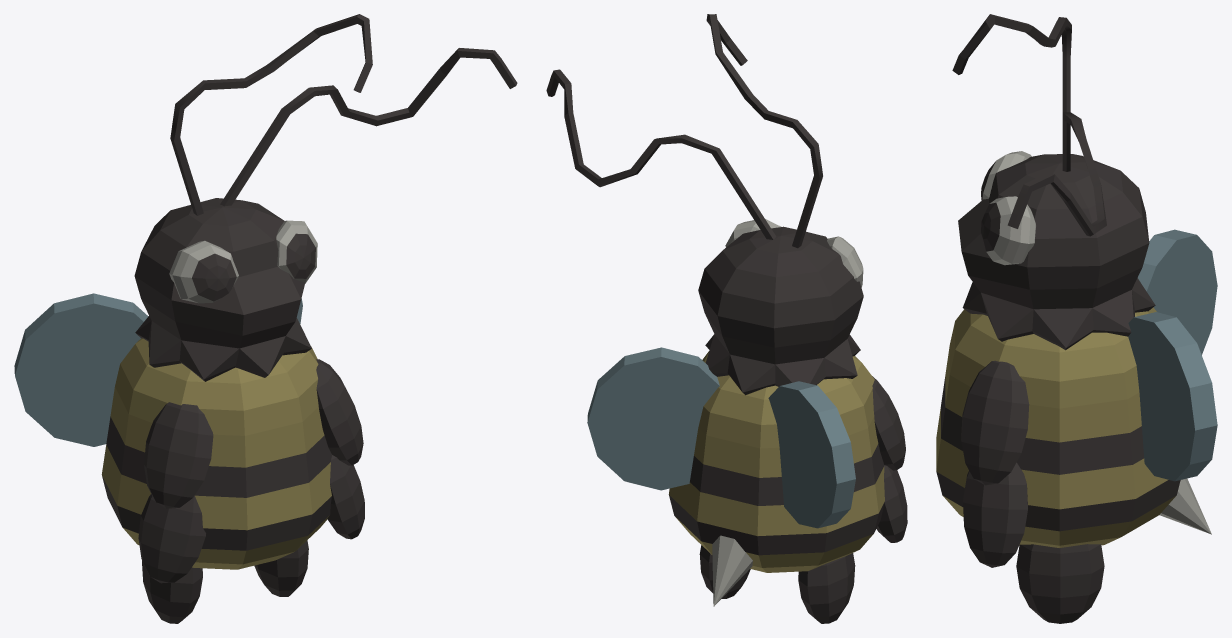
Rendered from WarTable_CaptKevin.fbx.
3 renders of one model, left to right at view 1: azimuth 30°, elevation 25°; view 2: azimuth 150°, elevation 25°; view 3: azimuth 270°, elevation 25°, orthographic. The views are drawn at different scales.
Parts seen in each view (by area): view 1: Seated_CaptKevin; view 2: Seated_CaptKevin; view 3: Seated_CaptKevin.
Part boxes in pixels (left/top/right/bottom): Seated_CaptKevin: left=14, top=14, right=517, bottom=623; Seated_CaptKevin: left=546, top=14, right=907, bottom=623; Seated_CaptKevin: left=936, top=14, right=1217, bottom=623.
Size of the model in its own units: 4.12 by 5.58 by 2.25.
